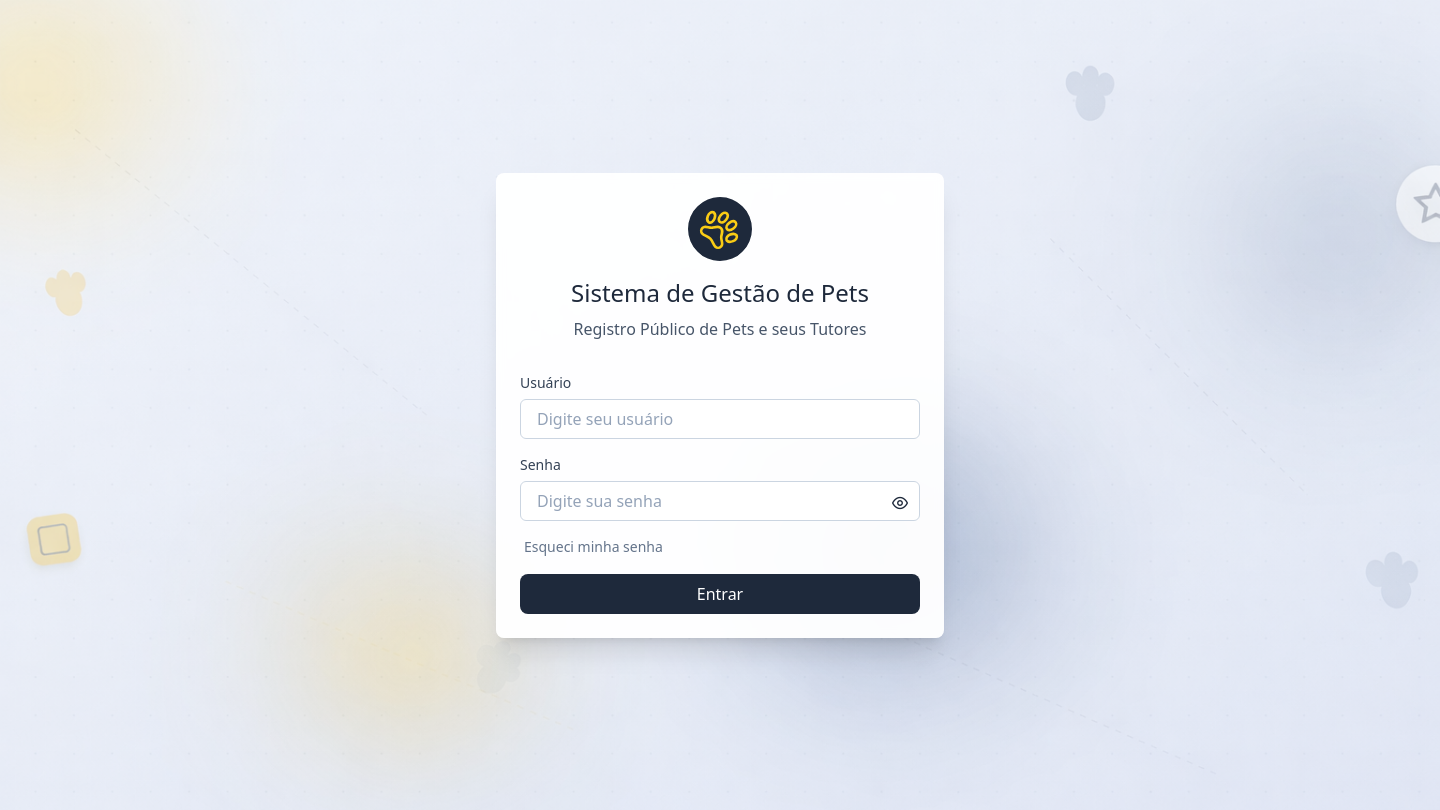
Test: Login › deve exibir erros de validação quando campos estão vazios
Click the button "Entrar" at (720, 594), box [520,574,920,614]
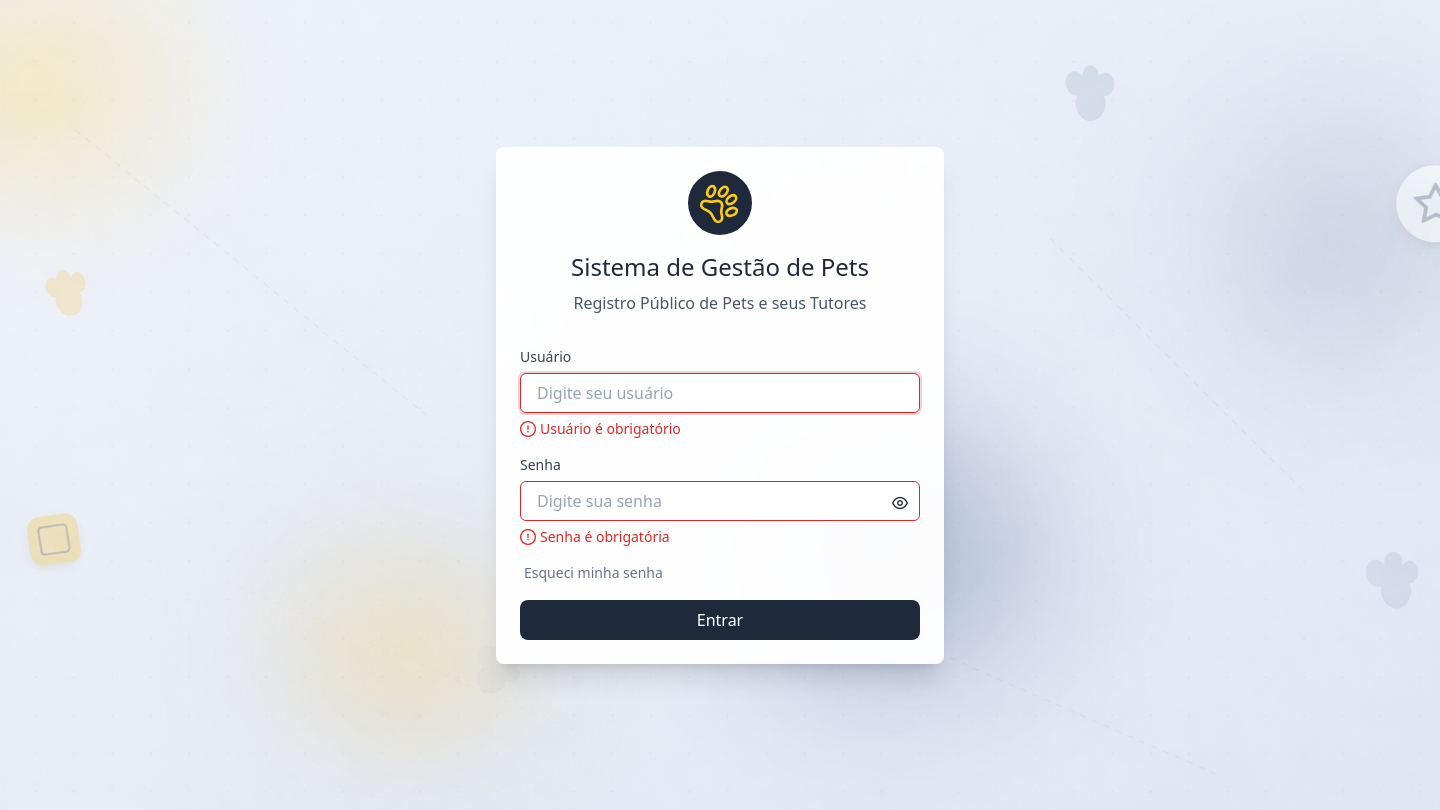
expect the text "Usuário é obrigatório" is shown: met, box [520,418,681,438]
expect the text "Senha é obrigatória" is shown: met, box [520,526,670,546]
